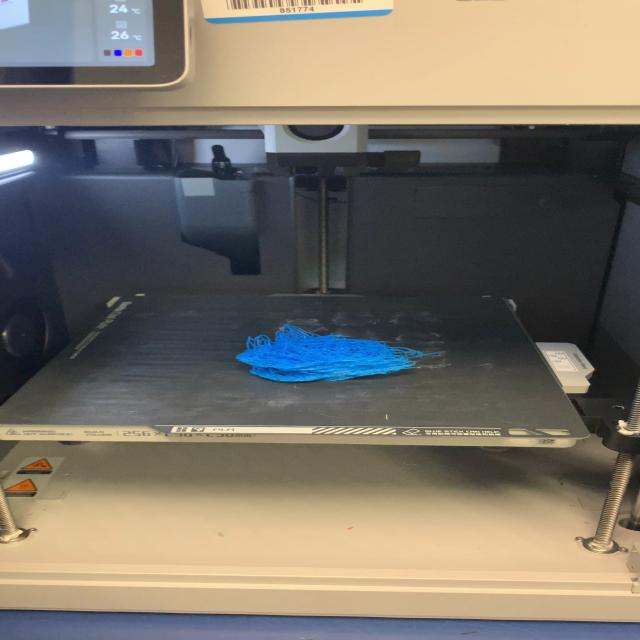spaghetti: (195, 280, 424, 410)
